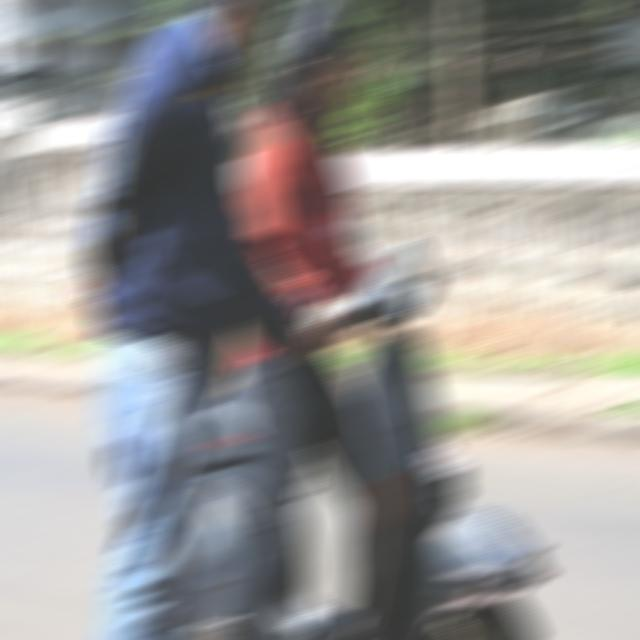Without Helmet: (277, 2, 366, 124)
